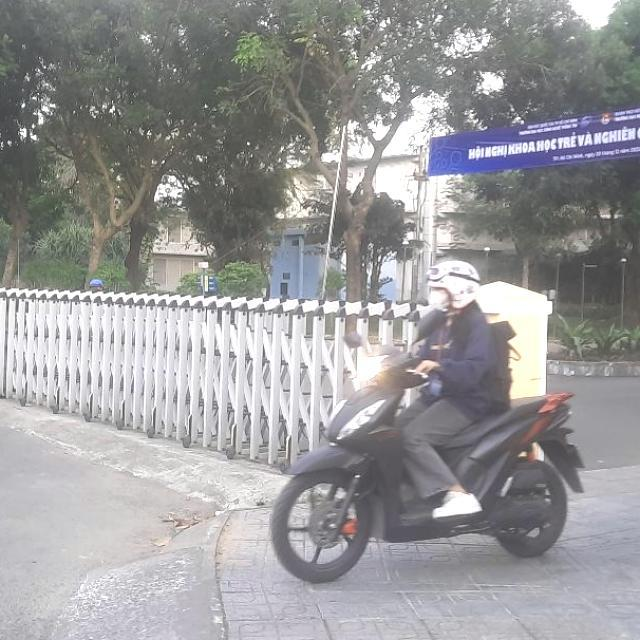Helmet: (420, 260, 482, 320)
